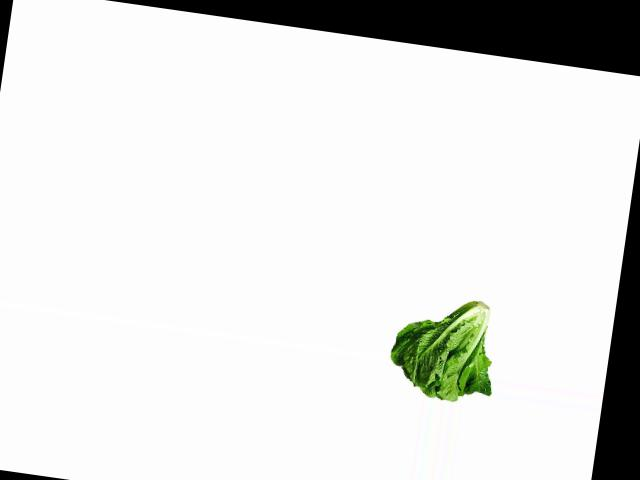lettuce: (383, 284, 502, 407)
